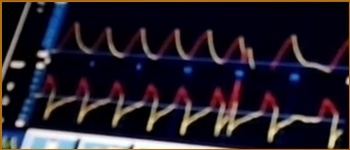Double_Triggering Volume: (71, 77, 342, 147), (73, 22, 347, 72)
